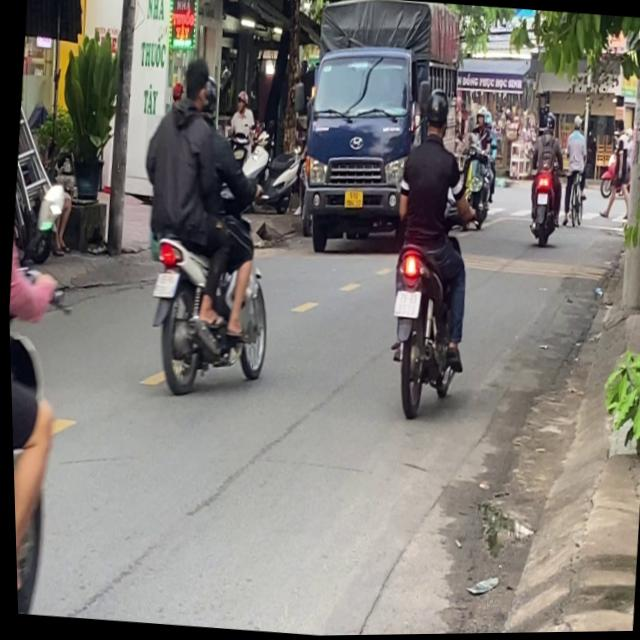helmet: (419, 88, 450, 143)
licenseplate: (121, 47, 291, 402), (1, 51, 97, 616), (369, 82, 489, 420)
motorcyclist: (176, 54, 215, 118)
nohelmet: (390, 290, 419, 318), (150, 270, 176, 295)
